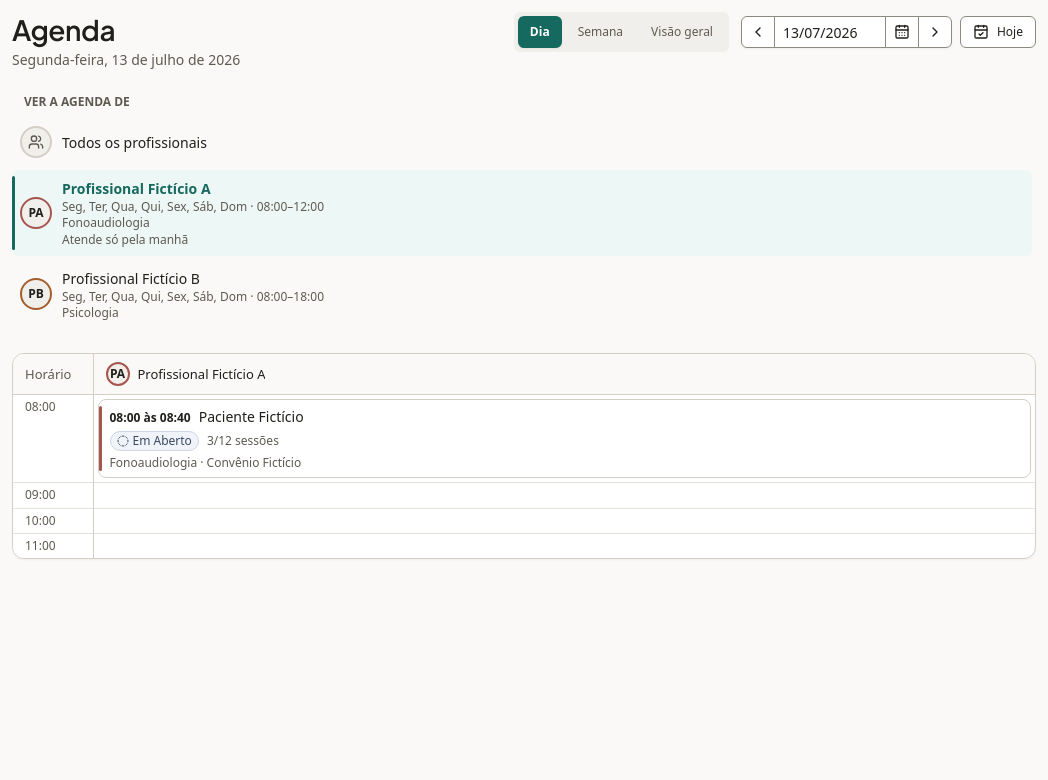
Scenario: Agenda — "Todos os profissionais" mostra TODOS › deve levar para a visão que mostra todos, em vez de cair num só
Expected: the table is shown, [13,354,1035,558]
Expected: the column heading "PA Profissional Fictício A" is shown, [93,354,1035,395]
Step 1. Click the button "Todos os profissionais" → point(36, 142), box [12,118,1036,166]
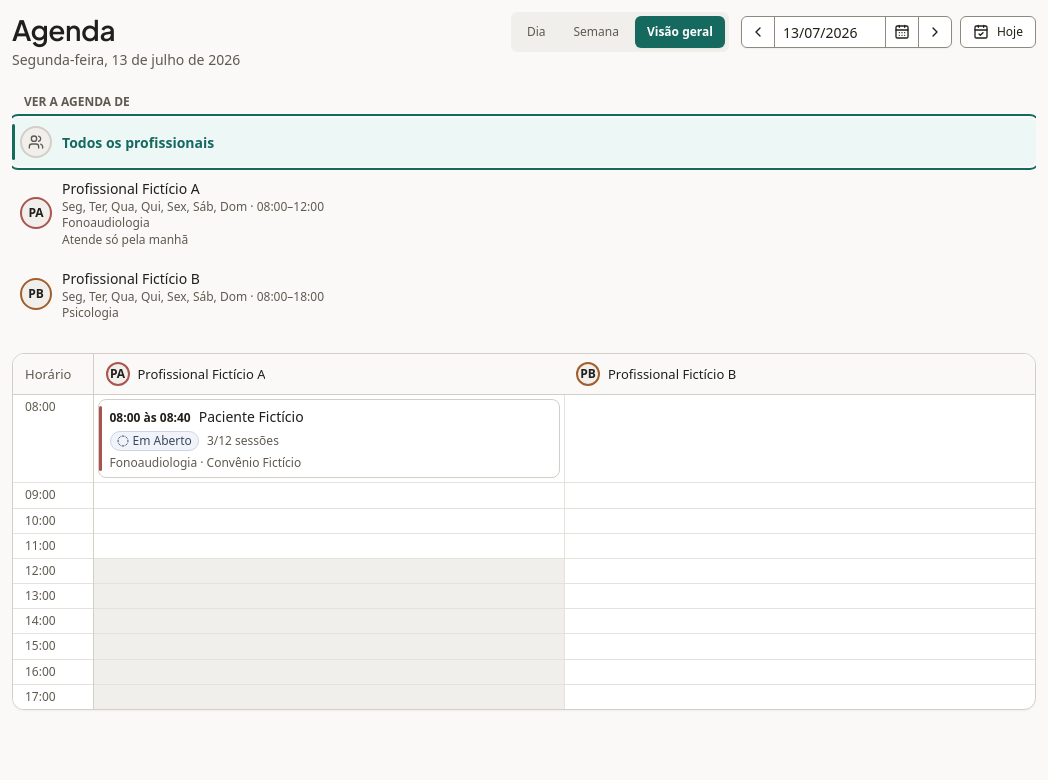
Expected: the column heading "PA Profissional Fictício A" is shown, [93,354,564,395]
Expected: the column heading "PB Profissional Fictício B" is shown, [564,354,1035,395]
